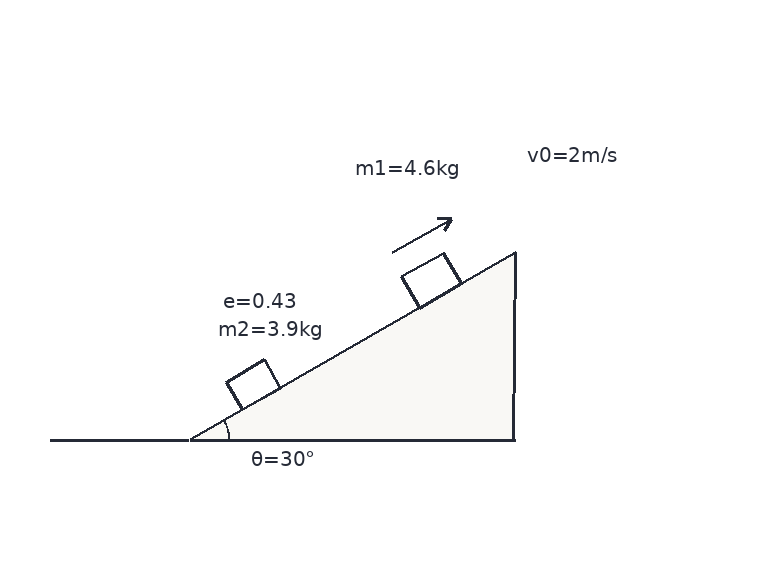block: (399, 250, 463, 309), (224, 358, 282, 412)
ramp: (187, 250, 517, 442)
